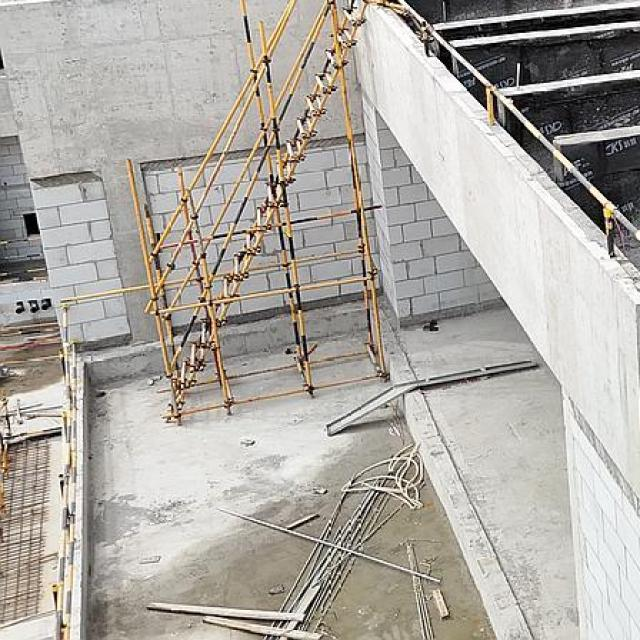edge_guardrail: (394, 0, 640, 260), (49, 281, 151, 640), (0, 236, 47, 284)
